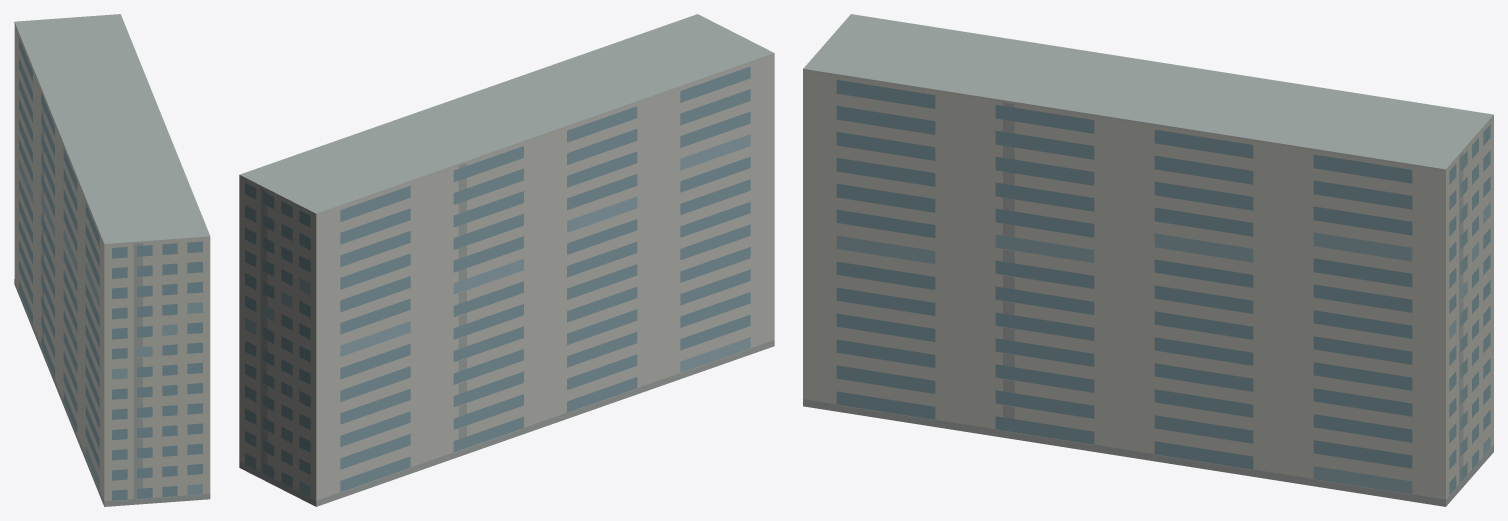
File: residential-66b1f58e-3879-47f9-857a-420a3c002c80.glb
3 views of the same model, side by side, from view 1: azimuth 30°, elevation 25°; view 2: azimuth 150°, elevation 25°; view 3: azimuth 270°, elevation 25° (orthographic). The views are drawn at different scales.
Visible parts, largest first — view 1: residential-66b1f58e-3879-47f9-857a-420a3c002c80.tmp; view 2: residential-66b1f58e-3879-47f9-857a-420a3c002c80.tmp; view 3: residential-66b1f58e-3879-47f9-857a-420a3c002c80.tmp.
Boxes of the visible parts, x1,y1,x2,y2 form: residential-66b1f58e-3879-47f9-857a-420a3c002c80.tmp: (14, 14, 210, 506); residential-66b1f58e-3879-47f9-857a-420a3c002c80.tmp: (239, 14, 774, 506); residential-66b1f58e-3879-47f9-857a-420a3c002c80.tmp: (803, 14, 1493, 506).
Size of the model in its own units: 35.56 by 36 by 66.78.
